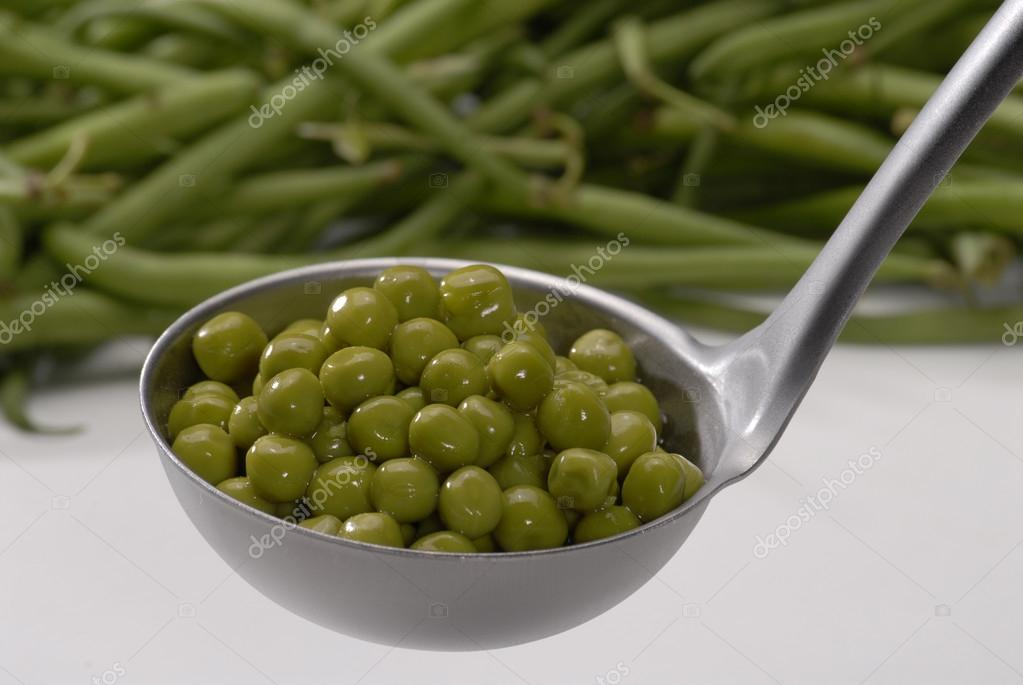boiled peas: (260, 296, 632, 513)
